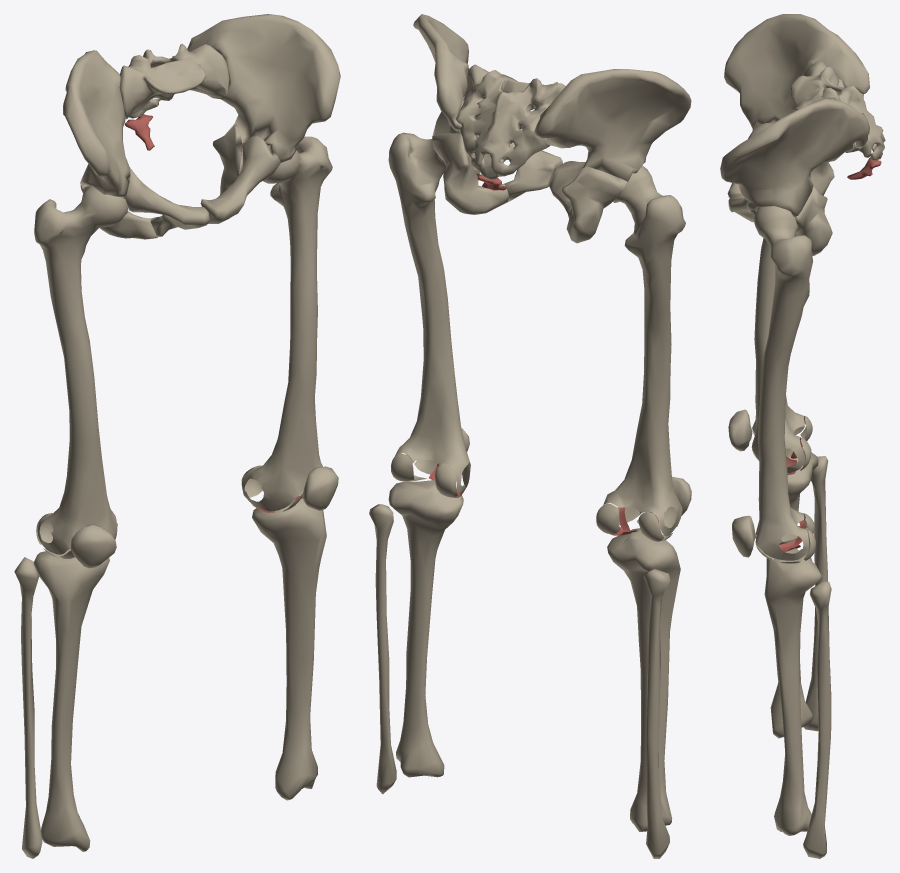
File: adult_female.skeletal.LOD2.glb
3 views of the same model, side by side, from view 1: azimuth 30°, elevation 25°; view 2: azimuth 150°, elevation 25°; view 3: azimuth 270°, elevation 25° (orthographic). The views are drawn at different scales.
Visible parts, largest first — view 1: ADULT.FEMALE.SKELETAL.FEMUR.R, ADULT.FEMALE.SKELETAL.FEMUR.L, ADULT.FEMALE.SKELETAL.ILIUM_COMPACT_BONE.L, ADULT.FEMALE.SKELETAL.TIBIA.L, ADULT.FEMALE.SKELETAL.TIBIA.R, ADULT.FEMALE.SKELETAL.ILIUM_COMPACT_BONE.R, ADULT.FEMALE.SKELETAL.SACRUM, ADULT.FEMALE.SKELETAL.FIBULA.R, ADULT.FEMALE.SKELETAL.PUBIS_COMPACT_BONE.L, ADULT.FEMALE.SKELETAL.PUBIS_COMPACT_BONE.R, ADULT.FEMALE.SKELETAL.PATELLA.R, ADULT.FEMALE.SKELETAL.ISCHIUM_COMPACT_BONE.L (+2 smaller); view 2: ADULT.FEMALE.SKELETAL.FEMUR.R, ADULT.FEMALE.SKELETAL.FEMUR.L, ADULT.FEMALE.SKELETAL.ILIUM_COMPACT_BONE.R, ADULT.FEMALE.SKELETAL.TIBIA.L, ADULT.FEMALE.SKELETAL.SACRUM, ADULT.FEMALE.SKELETAL.TIBIA.R, ADULT.FEMALE.SKELETAL.FIBULA.R, ADULT.FEMALE.SKELETAL.FIBULA.L, ADULT.FEMALE.SKELETAL.ILIUM_COMPACT_BONE.L, ADULT.FEMALE.SKELETAL.ISCHIUM_COMPACT_BONE.L, ADULT.FEMALE.SKELETAL.ISCHIUM_COMPACT_BONE.R, ADULT.FEMALE.SKELETAL.PUBIS_COMPACT_BONE.L (+1 smaller); view 3: ADULT.FEMALE.SKELETAL.FEMUR.L, ADULT.FEMALE.SKELETAL.ILIUM_COMPACT_BONE.L, ADULT.FEMALE.SKELETAL.ILIUM_COMPACT_BONE.R, ADULT.FEMALE.SKELETAL.TIBIA.L, ADULT.FEMALE.SKELETAL.FIBULA.L, ADULT.FEMALE.SKELETAL.FEMUR.R, ADULT.FEMALE.SKELETAL.SACRUM, ADULT.FEMALE.SKELETAL.FIBULA.R, ADULT.FEMALE.SKELETAL.TIBIA.R, ADULT.FEMALE.SKELETAL.ISCHIUM_COMPACT_BONE.L, ADULT.FEMALE.SKELETAL.PATELLA.R, ADULT.FEMALE.SKELETAL.PATELLA.L (+2 smaller).
Boxes of the visible parts, left/top/right/bottom form: ADULT.FEMALE.SKELETAL.FEMUR.R: left=34, top=185, right=127, bottom=554; ADULT.FEMALE.SKELETAL.FEMUR.L: left=242, top=136, right=332, bottom=511; ADULT.FEMALE.SKELETAL.ILIUM_COMPACT_BONE.L: left=187, top=14, right=340, bottom=162; ADULT.FEMALE.SKELETAL.TIBIA.L: left=252, top=494, right=326, bottom=800; ADULT.FEMALE.SKELETAL.TIBIA.R: left=33, top=551, right=109, bottom=851; ADULT.FEMALE.SKELETAL.ILIUM_COMPACT_BONE.R: left=63, top=50, right=130, bottom=197; ADULT.FEMALE.SKELETAL.SACRUM: left=119, top=44, right=229, bottom=119; ADULT.FEMALE.SKELETAL.FIBULA.R: left=14, top=557, right=42, bottom=858; ADULT.FEMALE.SKELETAL.PUBIS_COMPACT_BONE.L: left=200, top=136, right=280, bottom=223; ADULT.FEMALE.SKELETAL.PUBIS_COMPACT_BONE.R: left=123, top=167, right=209, bottom=236; ADULT.FEMALE.SKELETAL.PATELLA.R: left=70, top=524, right=116, bottom=568; ADULT.FEMALE.SKELETAL.ISCHIUM_COMPACT_BONE.L: left=213, top=124, right=242, bottom=218; ADULT.FEMALE.SKELETAL.FEMUR.R: left=603, top=165, right=685, bottom=536; ADULT.FEMALE.SKELETAL.FEMUR.L: left=388, top=132, right=470, bottom=494; ADULT.FEMALE.SKELETAL.ILIUM_COMPACT_BONE.R: left=534, top=69, right=691, bottom=182; ADULT.FEMALE.SKELETAL.TIBIA.L: left=388, top=480, right=463, bottom=777; ADULT.FEMALE.SKELETAL.SACRUM: left=456, top=64, right=565, bottom=179; ADULT.FEMALE.SKELETAL.TIBIA.R: left=607, top=528, right=680, bottom=831; ADULT.FEMALE.SKELETAL.FIBULA.R: left=643, top=569, right=670, bottom=858; ADULT.FEMALE.SKELETAL.FIBULA.L: left=369, top=504, right=396, bottom=794; ADULT.FEMALE.SKELETAL.ILIUM_COMPACT_BONE.L: left=413, top=14, right=479, bottom=135; ADULT.FEMALE.SKELETAL.ISCHIUM_COMPACT_BONE.L: left=432, top=133, right=508, bottom=214; ADULT.FEMALE.SKELETAL.ISCHIUM_COMPACT_BONE.R: left=562, top=166, right=627, bottom=243; ADULT.FEMALE.SKELETAL.PUBIS_COMPACT_BONE.L: left=476, top=135, right=562, bottom=201; ADULT.FEMALE.SKELETAL.FEMUR.L: left=754, top=206, right=812, bottom=560; ADULT.FEMALE.SKELETAL.ILIUM_COMPACT_BONE.L: left=720, top=97, right=869, bottom=216; ADULT.FEMALE.SKELETAL.ILIUM_COMPACT_BONE.R: left=724, top=14, right=869, bottom=130; ADULT.FEMALE.SKELETAL.TIBIA.L: left=764, top=548, right=821, bottom=835; ADULT.FEMALE.SKELETAL.FIBULA.L: left=803, top=581, right=831, bottom=858; ADULT.FEMALE.SKELETAL.FEMUR.R: left=752, top=238, right=805, bottom=472; ADULT.FEMALE.SKELETAL.SACRUM: left=791, top=61, right=885, bottom=160; ADULT.FEMALE.SKELETAL.FIBULA.R: left=803, top=456, right=828, bottom=731; ADULT.FEMALE.SKELETAL.TIBIA.R: left=770, top=448, right=818, bottom=738; ADULT.FEMALE.SKELETAL.ISCHIUM_COMPACT_BONE.L: left=795, top=186, right=832, bottom=255; ADULT.FEMALE.SKELETAL.PATELLA.R: left=728, top=409, right=752, bottom=451; ADULT.FEMALE.SKELETAL.PATELLA.L: left=732, top=515, right=755, bottom=557.
Bounding box in the file's own units: 0.3622 × 0.8974 × 0.1829.
